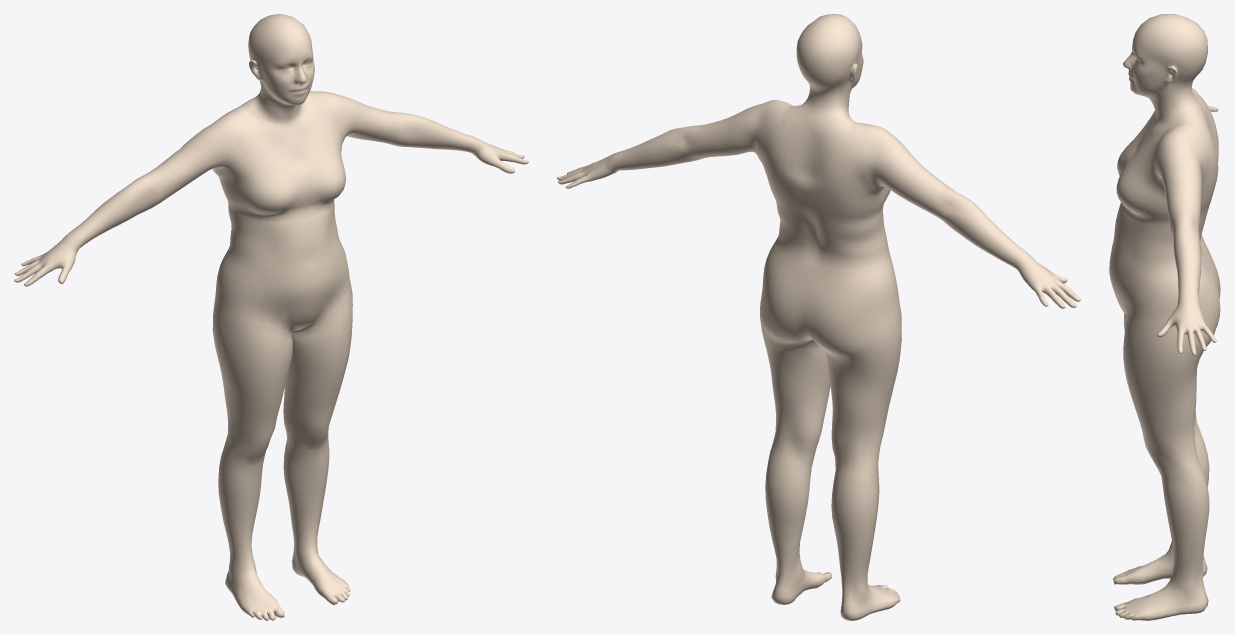
Rendered from human_avatar_a_pose_female.glb.
The picture shows the model from 3 angles, left to right: view 1: azimuth 30°, elevation 25°; view 2: azimuth 150°, elevation 25°; view 3: azimuth 270°, elevation 25°; orthographic projection. The views are drawn at different scales.
Parts seen in each view (by area): view 1: HumanoidAvatar_female_A-pose; view 2: HumanoidAvatar_female_A-pose; view 3: HumanoidAvatar_female_A-pose.
Part boxes in pixels (x1,y1,x2,y2): HumanoidAvatar_female_A-pose: [14, 14, 528, 620]; HumanoidAvatar_female_A-pose: [557, 14, 1080, 620]; HumanoidAvatar_female_A-pose: [1109, 14, 1220, 620].
Size of the model in its own units: 1.54 by 1.66 by 0.2873.
